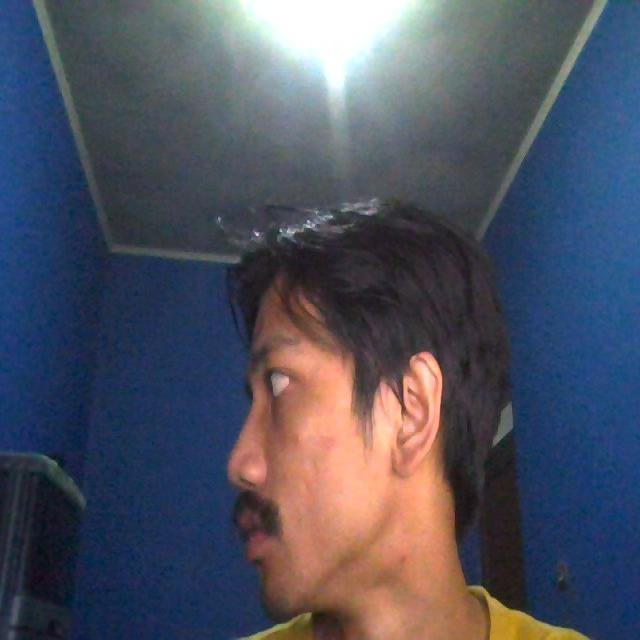Melihat kekanan: (180, 183, 510, 635)
